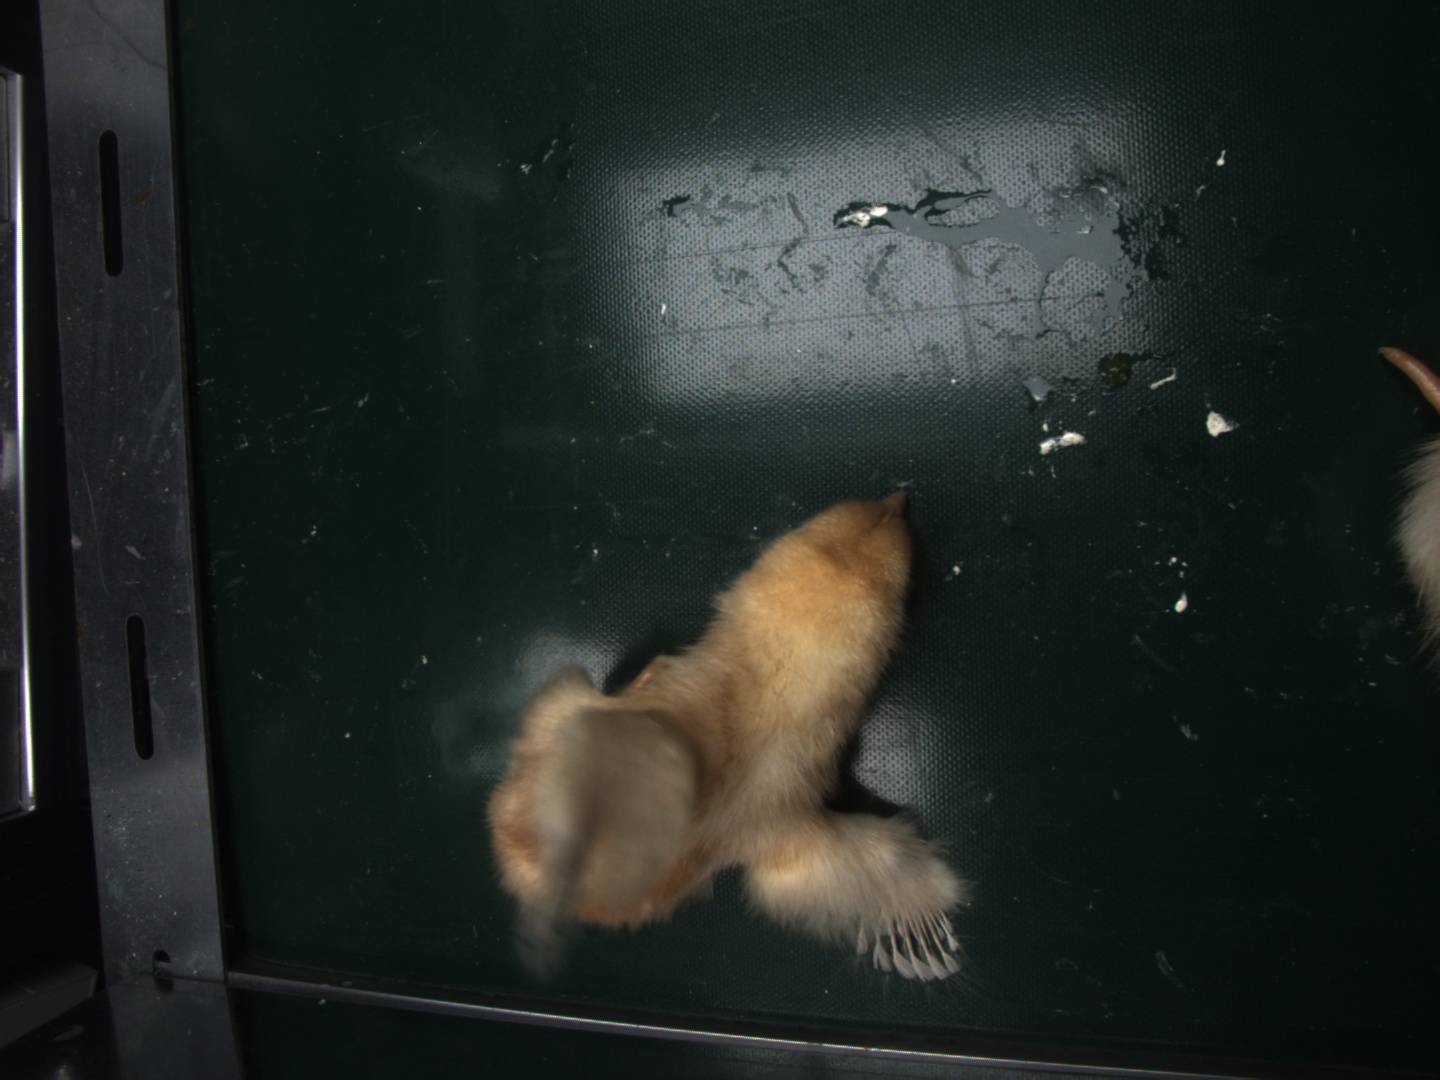female: (855, 905, 964, 984)
